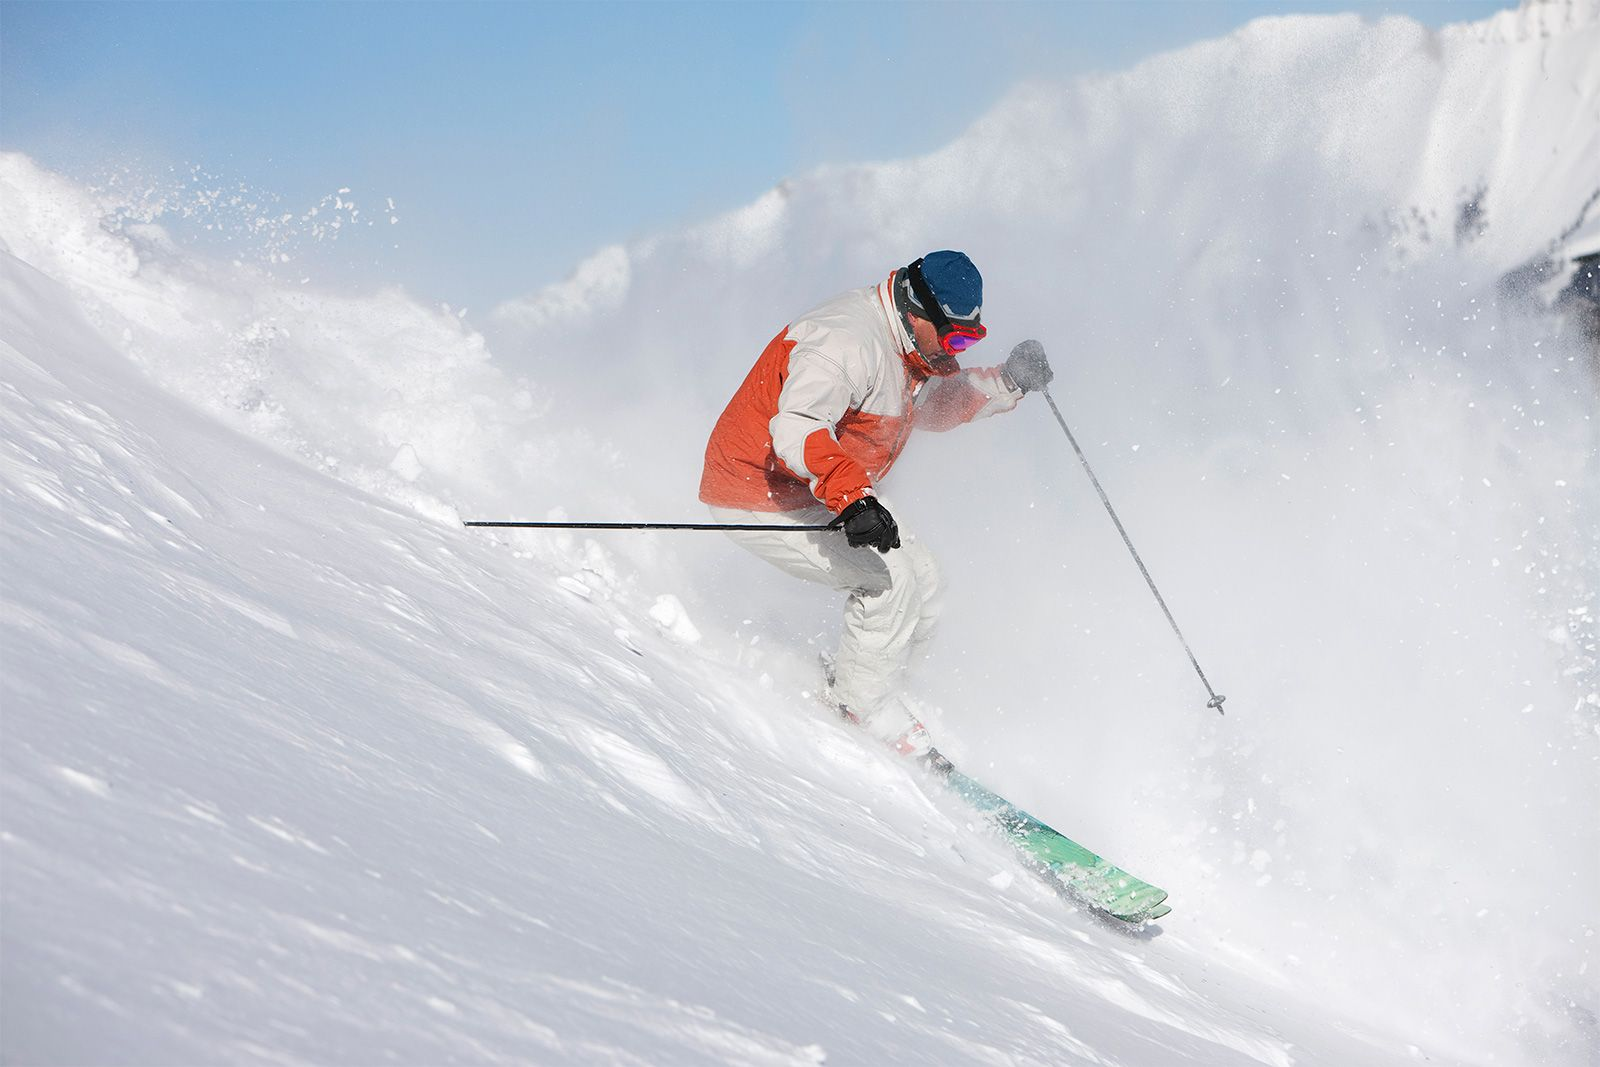skier: (643, 225, 1270, 942)
